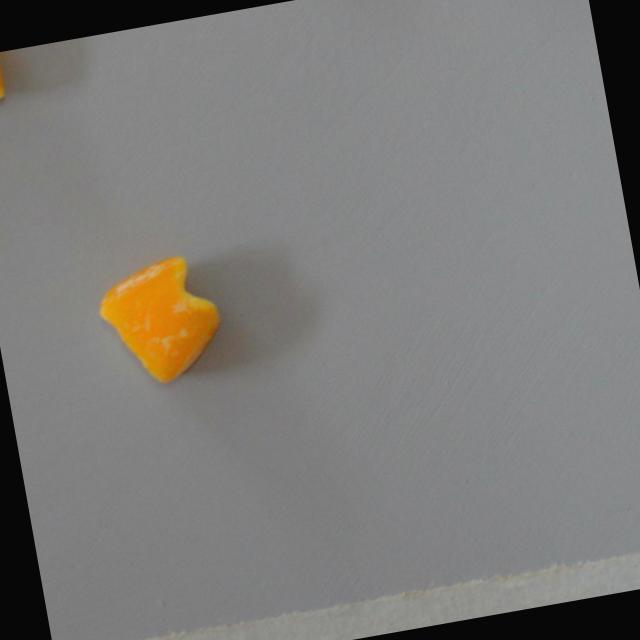pelicula: (91, 248, 230, 394)
